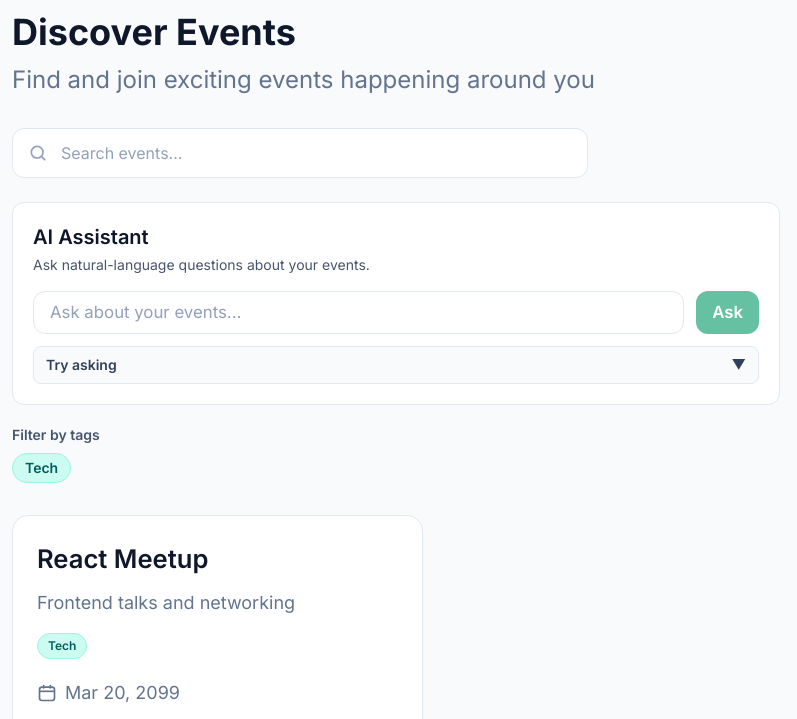
Test: EventsPage › shows assistant error when API request fails
expect the heading "React Meetup" is shown: met, box [37,543,208,574]
Type "How many upcoming events?" into the field with placeholder "Ask about your events...".
click(359, 313); type("How many upcoming events?")  # box [33,291,684,334]
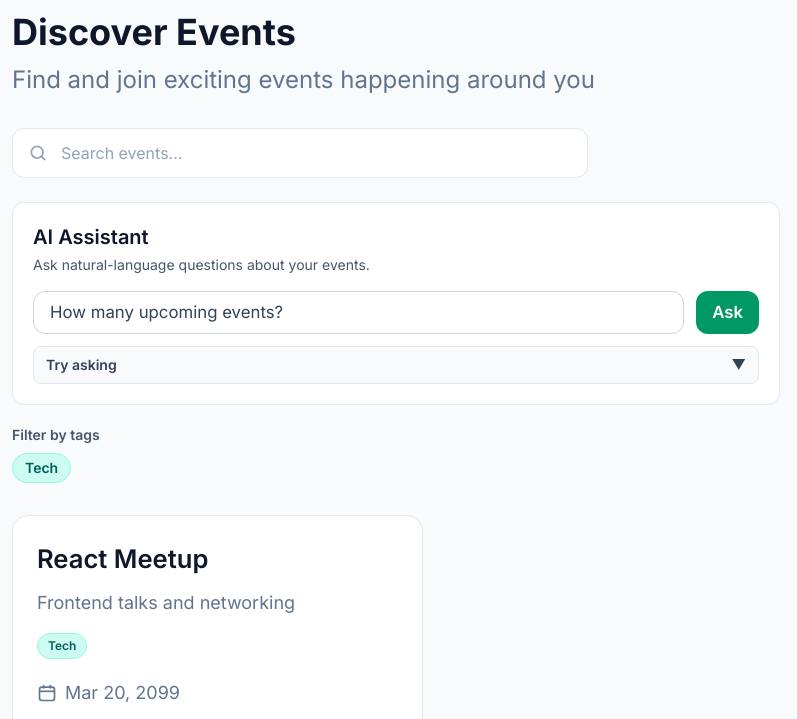
Click the button "Ask".
click(728, 313)  # box [696,291,759,334]
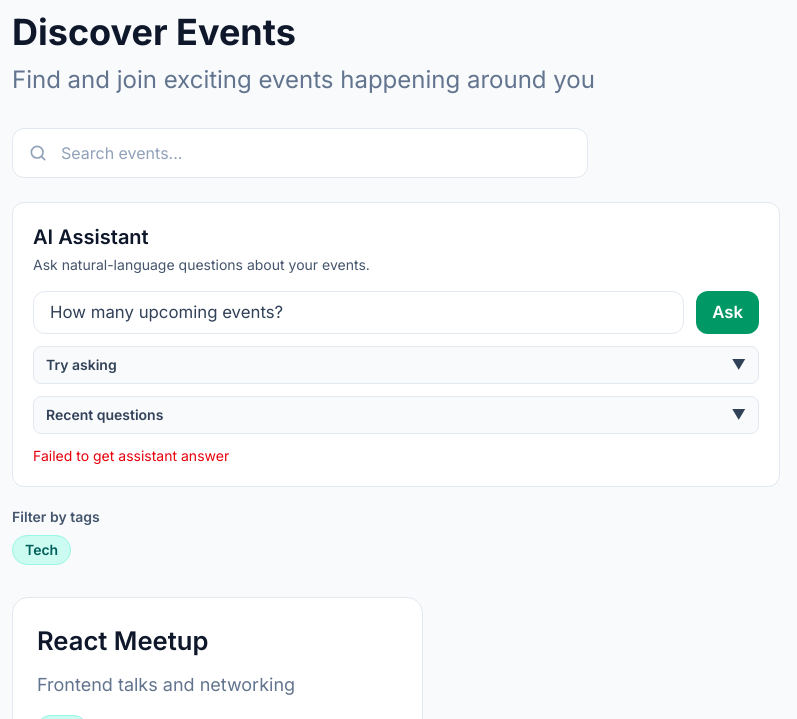
expect the text "Failed to get assistant answer" is shown: met, box [33,447,229,464]
